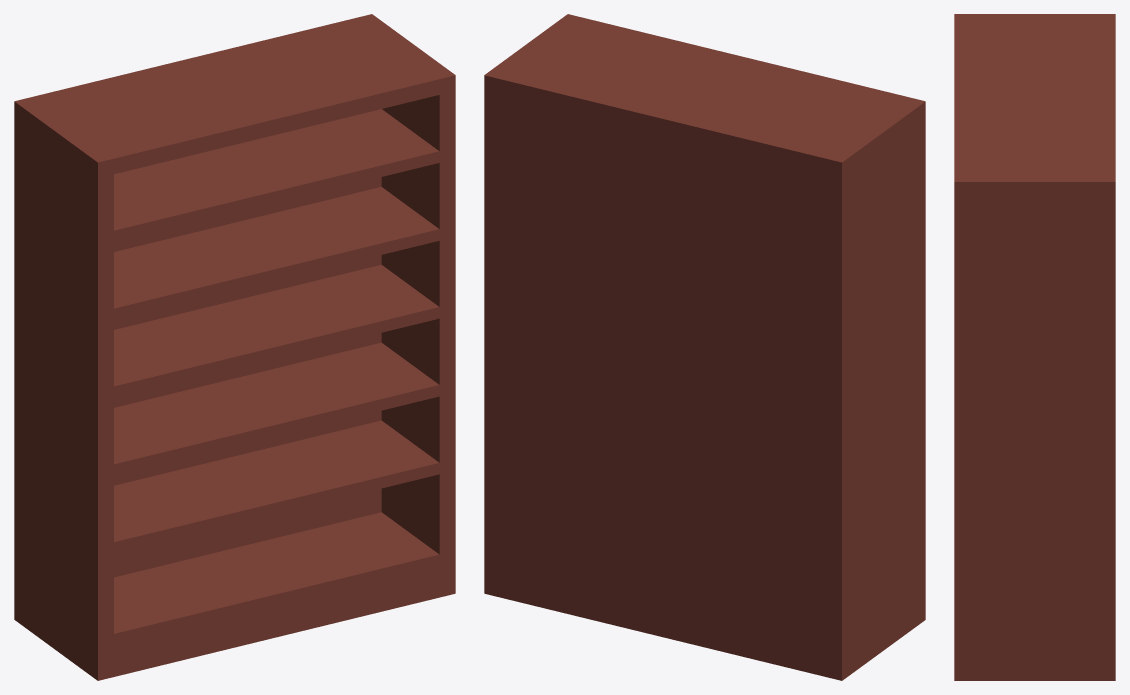
The model's file is Standart Bookshelf.fbx.
3 views of the same model, side by side, from view 1: azimuth 30°, elevation 25°; view 2: azimuth 150°, elevation 25°; view 3: azimuth 270°, elevation 25° (orthographic). The views are drawn at different scales.
Parts seen in each view (by area): view 1: Standart Bookshelf; view 2: Standart Bookshelf; view 3: Standart Bookshelf.
Boxes of the visible parts, box(x1,y1,x2,y2) form: Standart Bookshelf: box(14, 14, 455, 680); Standart Bookshelf: box(484, 14, 925, 680); Standart Bookshelf: box(954, 14, 1115, 680).
Bounding box in the file's own units: 1.9 × 2.63 × 0.7701.
